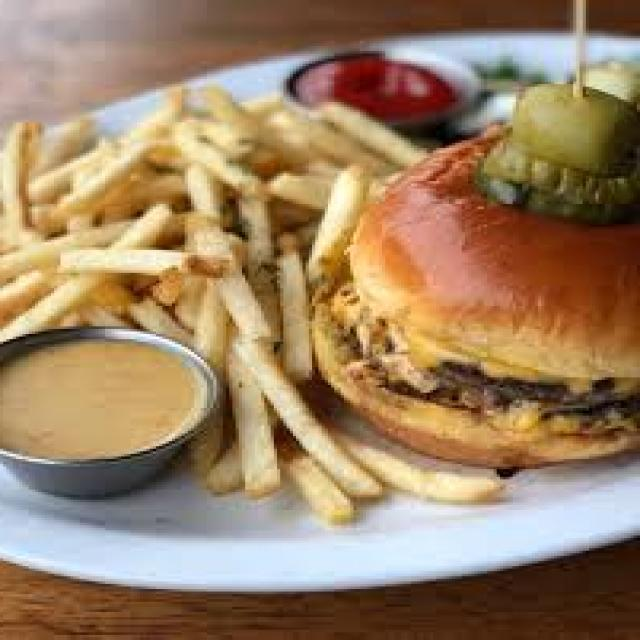Burger: (326, 106, 639, 469)
French Fries: (3, 64, 398, 520)
